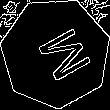M_SW: (23, 21, 89, 85)
